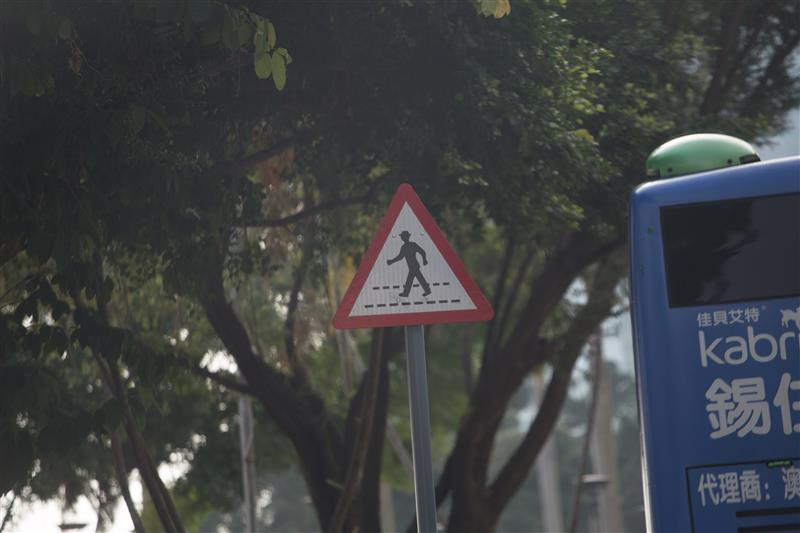pedestrianCrossingR: (334, 178, 493, 337)
